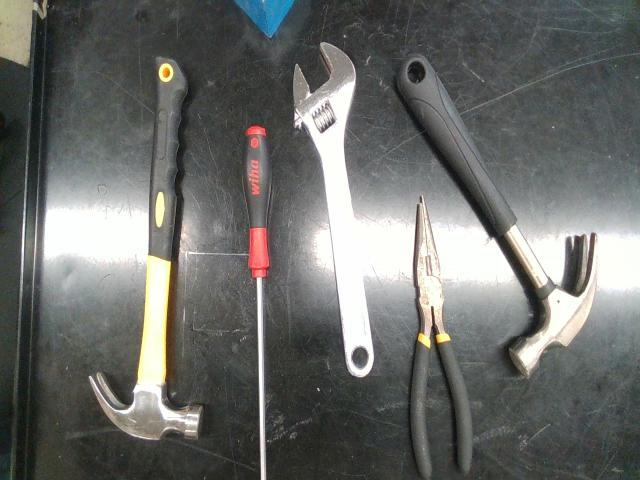Adjustable spanner: (294, 43, 374, 376)
Hammer: (396, 53, 598, 376), (89, 57, 202, 439)
Needle-nose pliers: (410, 195, 472, 478)
Screwdriver: (242, 127, 271, 480)
